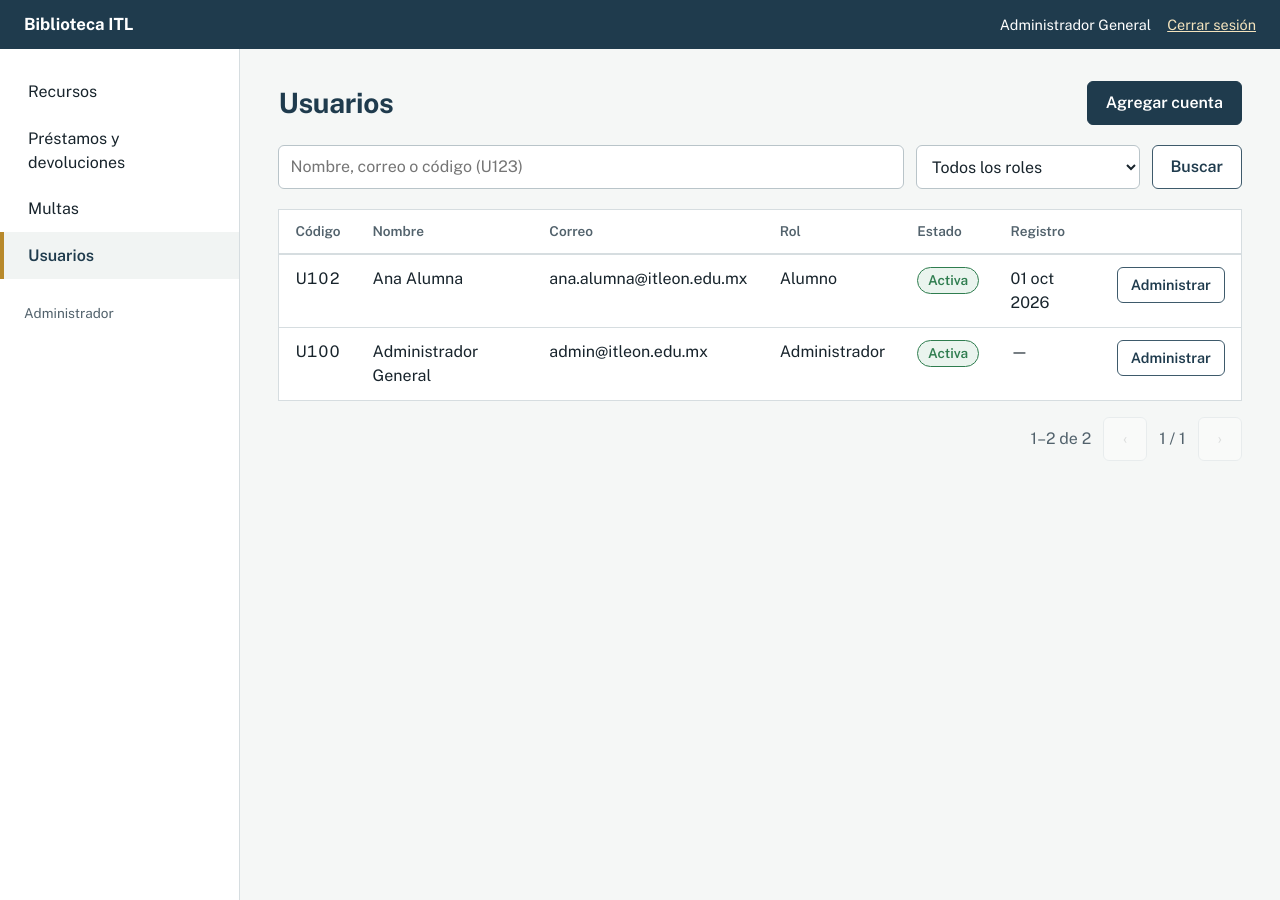
it: Administración de usuarios (sección 5.7) › si el servidor rechaza el cambio, el mensaje se muestra en el diálogo
Check: the text "Ana Alumna" is shown, box [356,254,533,328]
Click the button "Administrar" in the row of "U100" at point(1171, 358), box [1117,340,1225,376]
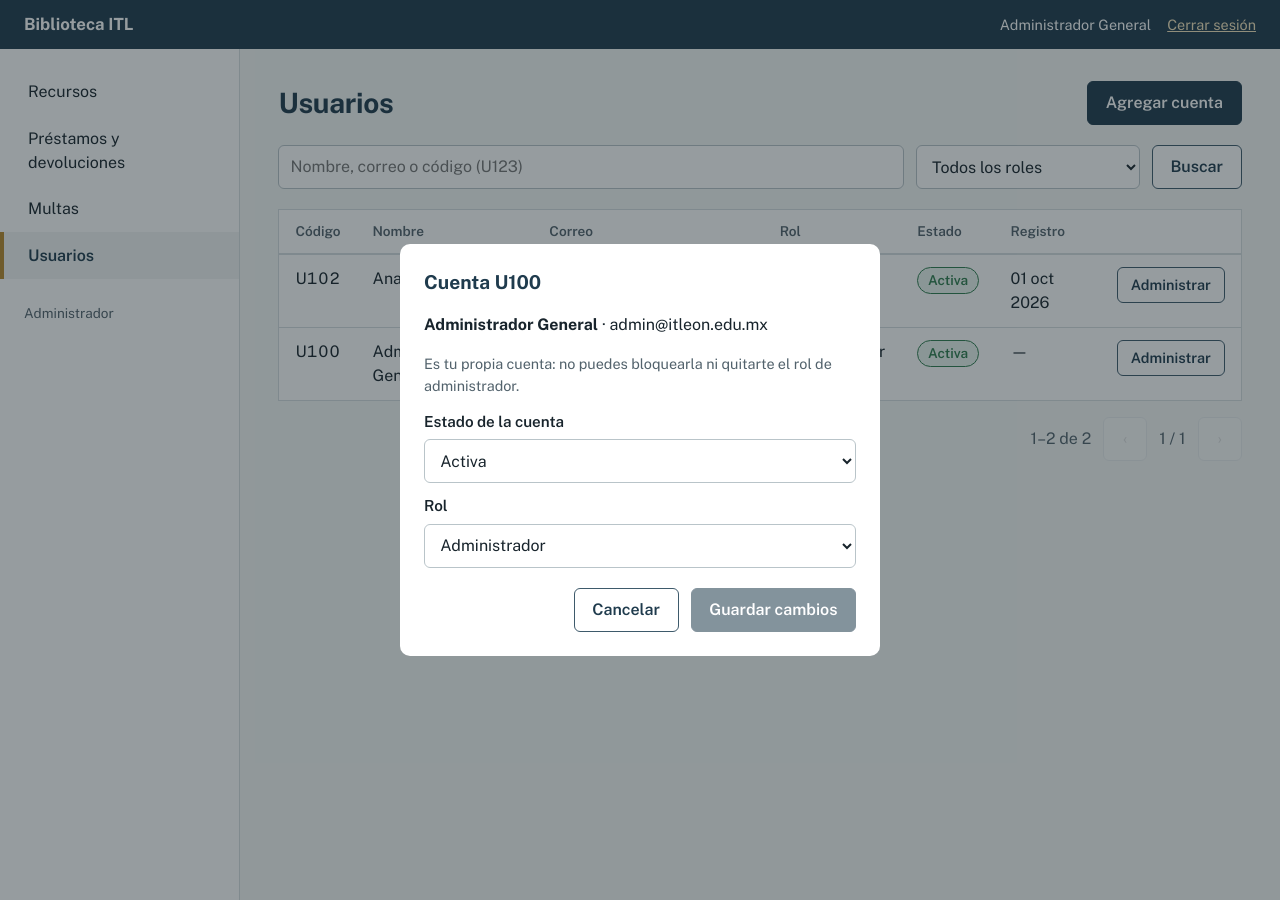
Check: the text "Es tu propia cuenta" is shown, box [424,355,832,394]
Select "Bloqueada" in the dropdown labelled "Estado de la cuenta" at point(640, 461), box [424,439,856,483]
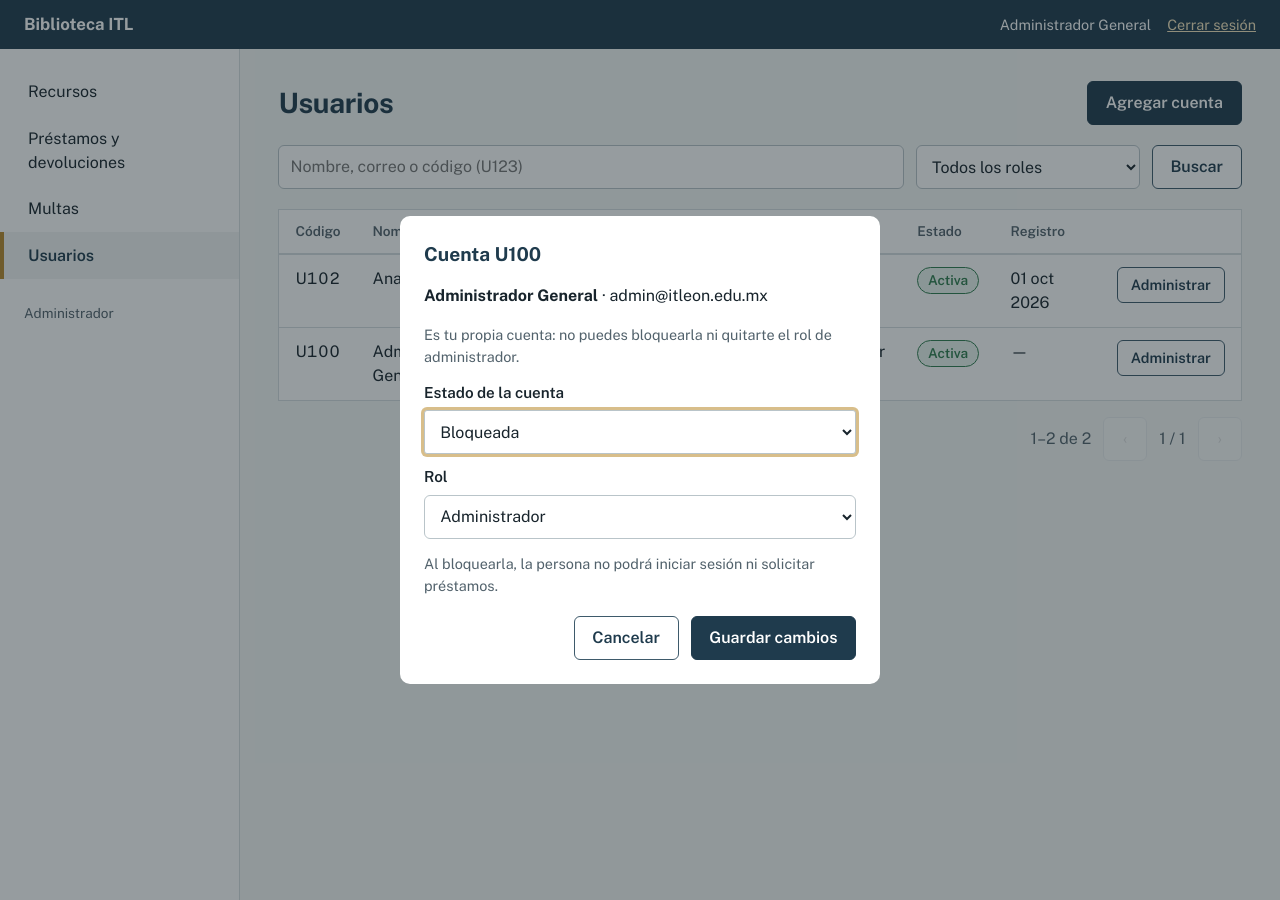
Click the button "Guardar cambios" at point(773, 638), box [691,616,856,660]
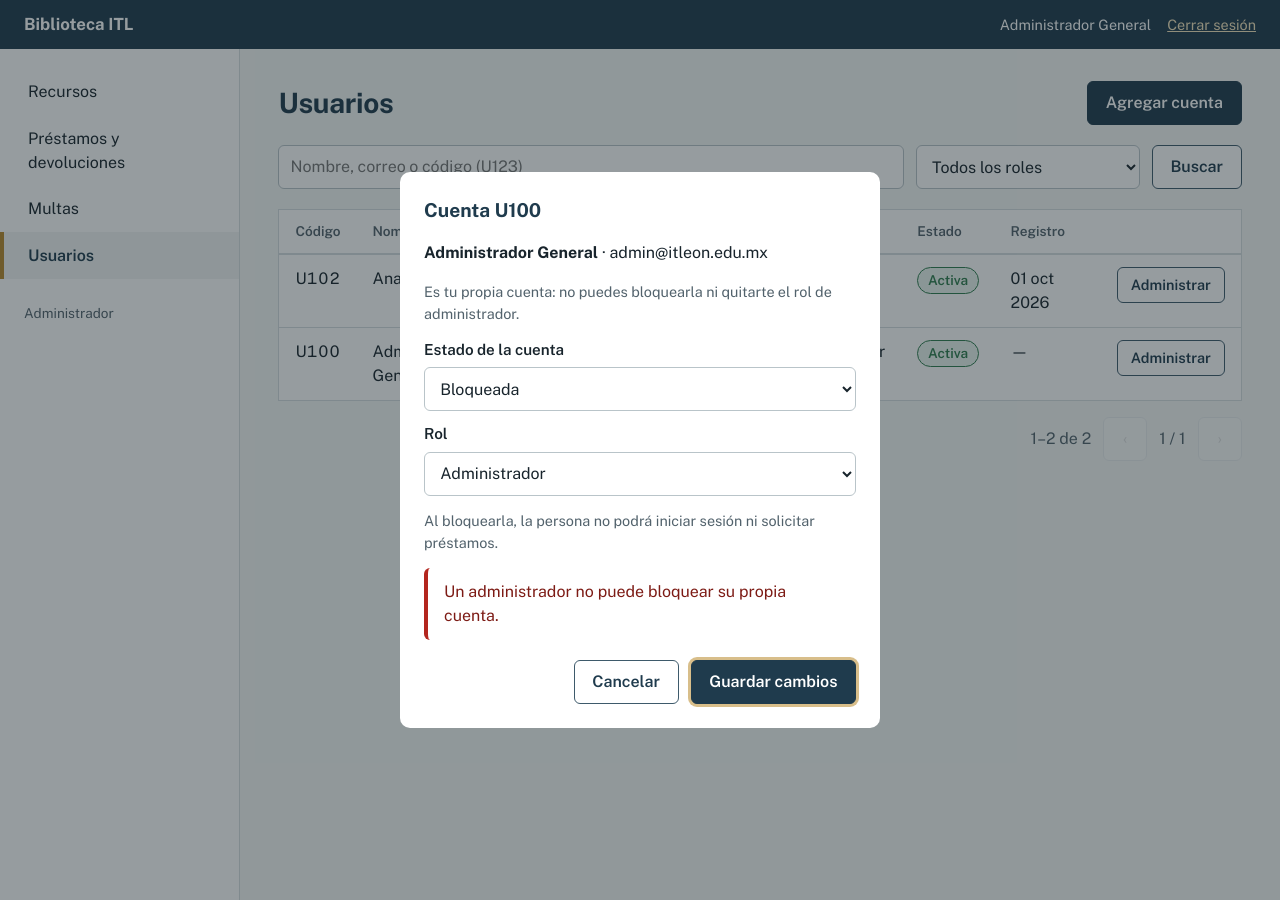
Check: the message shows "no puede bloquear su propia cuenta", box [444,582,786,625]
